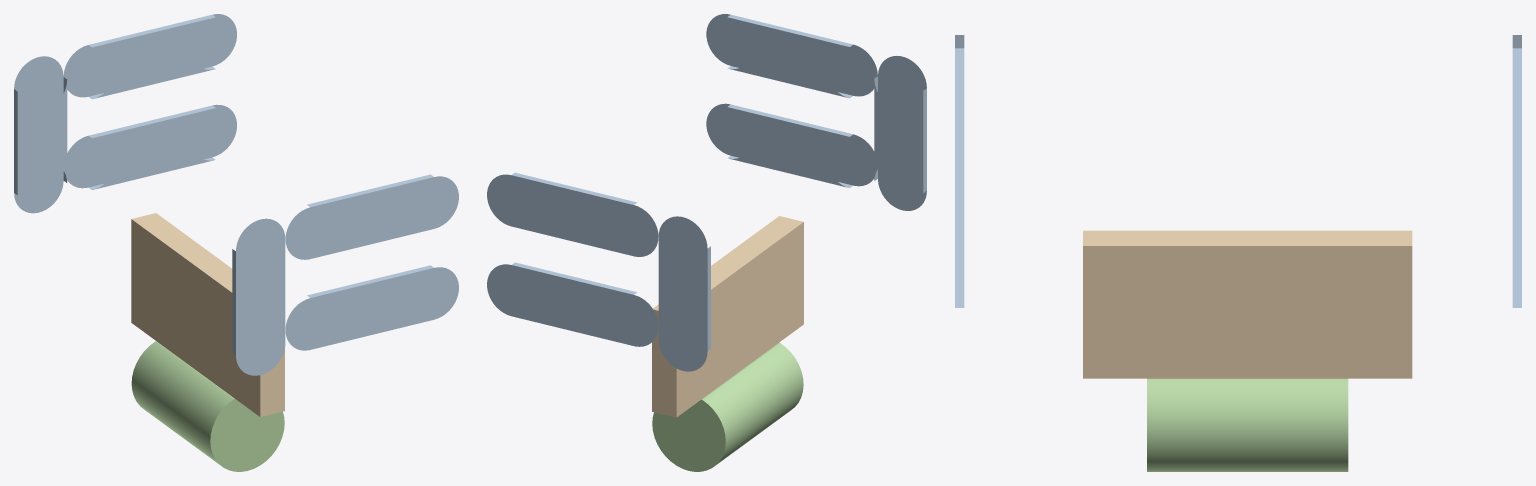
Rendered from ShooterIntake.dae.
3 renders of one model, left to right at view 1: azimuth 30°, elevation 25°; view 2: azimuth 150°, elevation 25°; view 3: azimuth 270°, elevation 25°, orthographic. The views are drawn at different scales.
Parts seen in each view (by area): view 1: Part 1.002; view 2: Part 1.002; view 3: Part 1.002.
Part boxes in pixels (x1,y1,x2,y2): Part 1.002: (14,14,458,471); Part 1.002: (487,14,926,471); Part 1.002: (955,35,1521,471).
Size of the model in its own units: 0.2285 by 0.3937 by 0.315.
